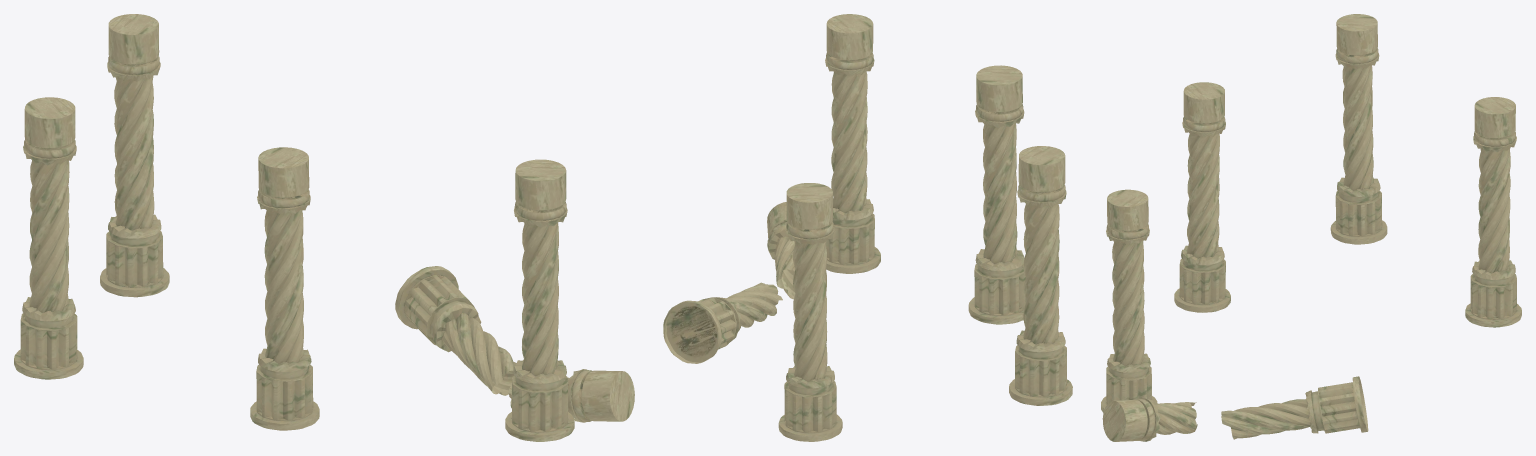
Rendered from Column.glb.
3 renders of one model, left to right at view 1: azimuth 30°, elevation 25°; view 2: azimuth 150°, elevation 25°; view 3: azimuth 270°, elevation 25°, orthographic. The views are drawn at different scales.
Visible parts, largest first — view 1: Column_3, Column_4, Column_2, Column_1, Column_0; view 2: Column_3, Column_4, Column_2, Column_1, Column_0; view 3: Column_2, Column_4, Column_0, Column_3, Column_1.
Part boxes in pixels (x1,y1,x2,y2): Column_3: (14,97,83,379); Column_4: (100,14,169,297); Column_2: (250,147,319,430); Column_1: (505,159,574,441); Column_0: (395,266,634,422); Column_3: (1009,146,1072,405); Column_4: (778,183,842,441); Column_2: (968,65,1025,324); Column_1: (825,14,880,273); Column_0: (663,202,795,363); Column_2: (1174,82,1230,312); Column_4: (1465,97,1521,327); Column_0: (1102,376,1368,441); Column_3: (1330,14,1387,244); Column_1: (1101,189,1157,412).
Size of the model in its own units: 7.69 by 5.07 by 7.29.
1 material, 1 textured.
